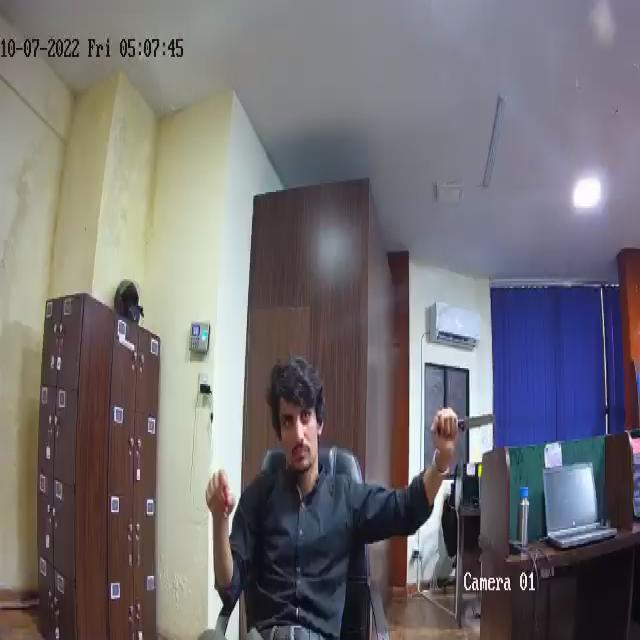weapon: (438, 405, 499, 439)
